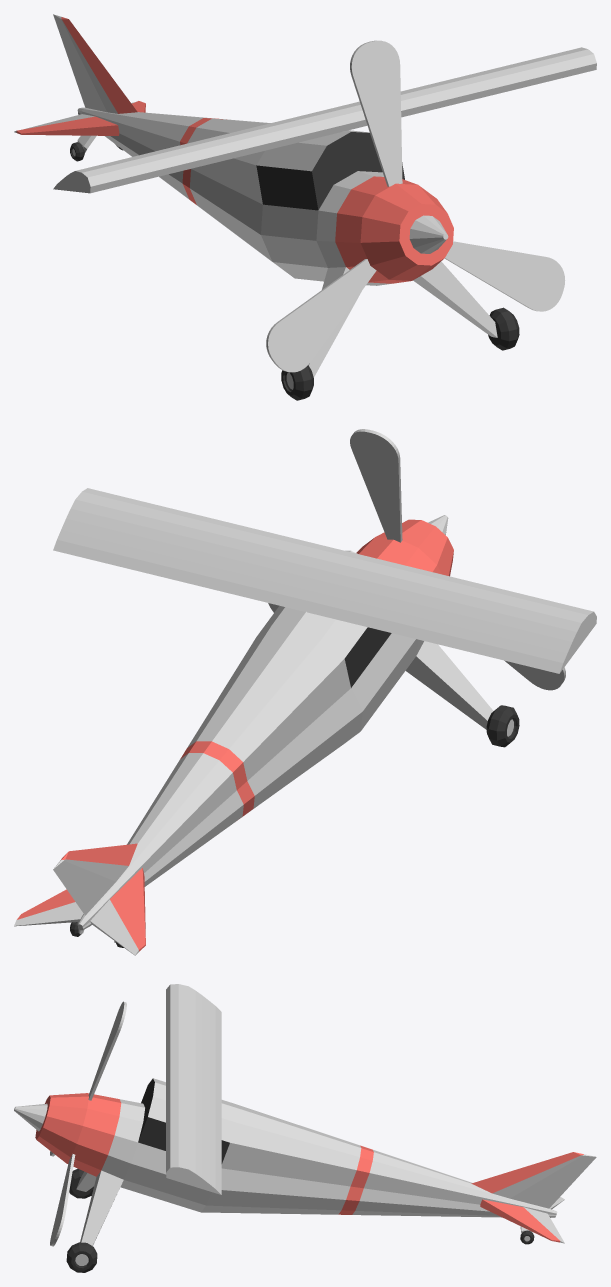
File: Airplane.fbx
The picture shows the model from 3 angles, top to bottom: view 1: azimuth 30°, elevation 25°; view 2: azimuth 150°, elevation 25°; view 3: azimuth 270°, elevation 25°; orthographic projection. The views are drawn at different scales.
Parts seen in each view (by area): view 1: Body, Wings, Body.002, Plane, Plane.002, Plane.001, Fin, Stand, Wheels, Back Wings; view 2: Wings, Body, Back Wings, Plane, Body.002, Fin, Stand, Wheels, Plane.002; view 3: Body, Wings, Body.002, Fin, Stand, Back Wings, Wheels, Plane, Plane.001.
Part boxes in pixels (x1,y1,x2,y2): Body: [77, 107, 404, 285]; Wings: [53, 47, 596, 193]; Body.002: [335, 176, 453, 283]; Plane: [350, 40, 402, 186]; Plane.002: [266, 259, 376, 372]; Plane.001: [444, 241, 565, 311]; Fin: [53, 14, 137, 113]; Stand: [308, 261, 497, 377]; Wheels: [281, 307, 519, 400]; Back Wings: [14, 101, 145, 135]; Wings: [53, 488, 596, 673]; Body: [77, 550, 423, 930]; Back Wings: [14, 868, 145, 955]; Plane: [350, 429, 402, 542]; Body.002: [356, 515, 453, 576]; Fin: [53, 843, 137, 915]; Stand: [405, 641, 493, 729]; Wheels: [486, 705, 519, 747]; Plane.002: [504, 660, 565, 690]; Body: [101, 1078, 557, 1217]; Wings: [166, 984, 221, 1194]; Body.002: [14, 1093, 121, 1176]; Fin: [471, 1152, 596, 1208]; Stand: [76, 1170, 123, 1245]; Back Wings: [480, 1196, 564, 1243]; Wheels: [66, 1168, 97, 1272]; Plane: [88, 1001, 126, 1100]; Plane.001: [50, 1154, 75, 1246].
Bounding box in the file's own units: 994 × 585 × 1337.
